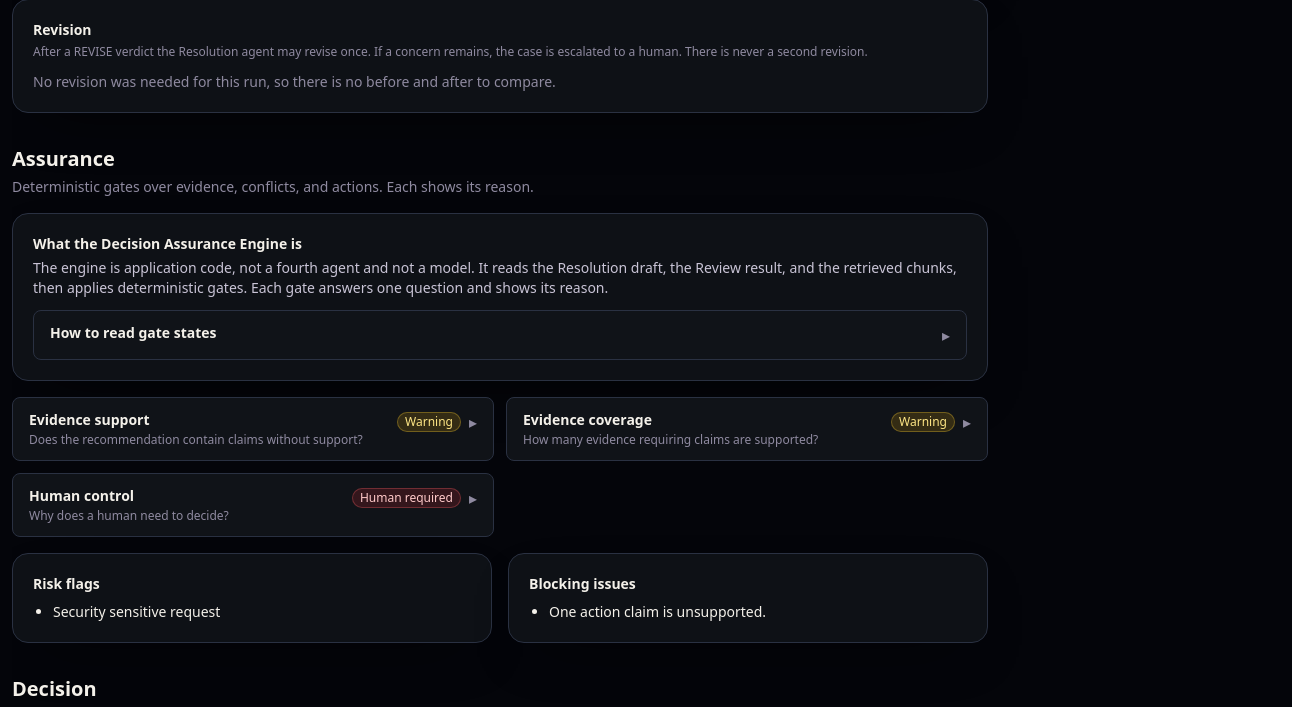
Test: TicketDetailPage › explains gates progressively and does not present coverage as correctness
(page scrolled)
Click the button "Evidence coverage" at (747, 428), box top-left (507, 398), bottom-right (987, 460)
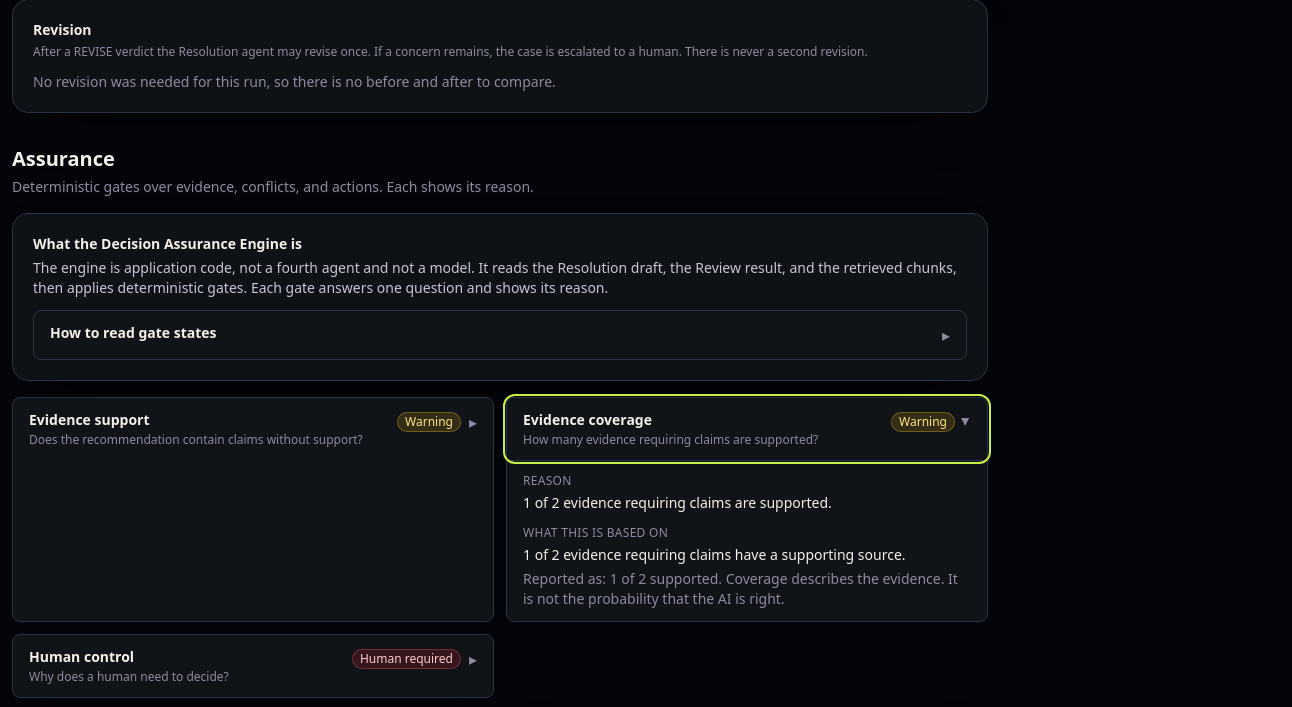
Expected: the button "Evidence coverage" is expanded, top-left (507, 398), bottom-right (987, 460)
Expected: the text "1 of 2 evidence requiring claims are supported." is shown, top-left (523, 492), bottom-right (832, 512)
Expected: the text "not the probability that the AI is right" is shown, top-left (523, 568), bottom-right (958, 608)
